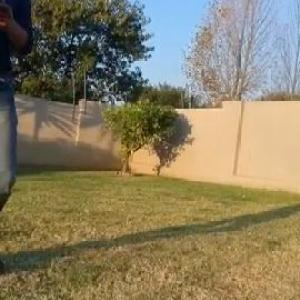follow: (0, 0, 39, 280)
